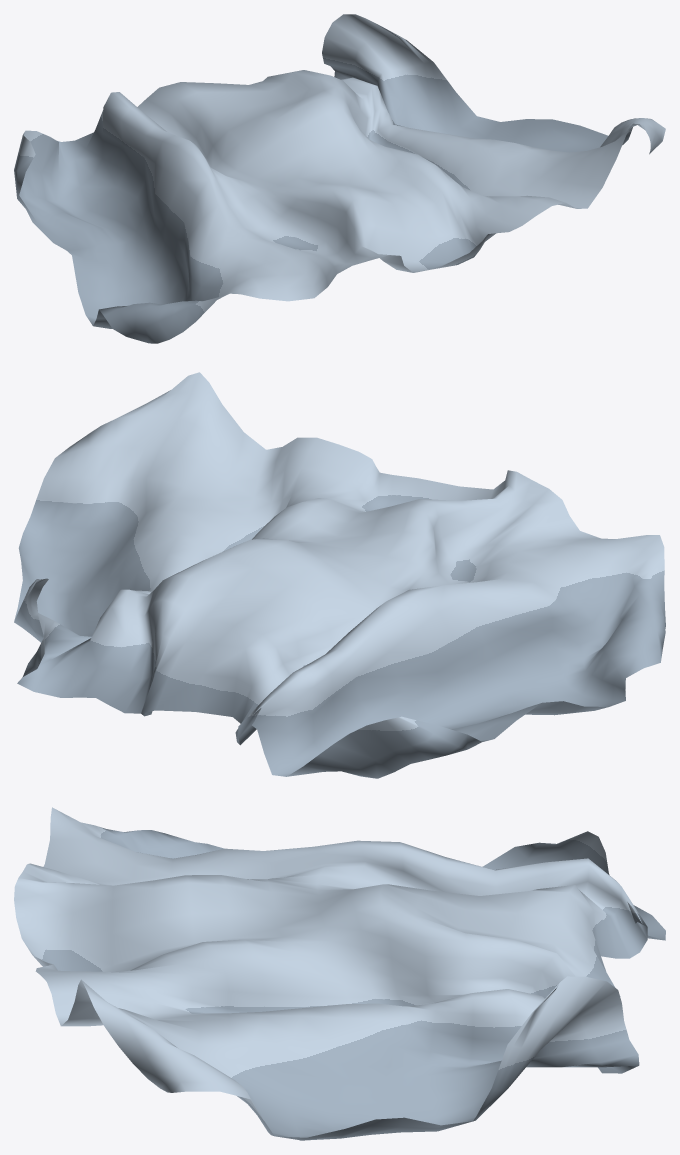
File: papel.007.fbx
3 views of the same model, one above another, from view 1: azimuth 30°, elevation 25°; view 2: azimuth 150°, elevation 25°; view 3: azimuth 270°, elevation 25° (orthographic). The views are drawn at different scales.
Visible parts, largest first — view 1: papel.007; view 2: papel.007; view 3: papel.007.
Part boxes in pixels (x1,y1,x2,y2): papel.007: [14, 14, 665, 343]; papel.007: [14, 372, 665, 778]; papel.007: [14, 807, 665, 1140].
Bounding box in the file's own units: 271 × 70.36 × 232.
